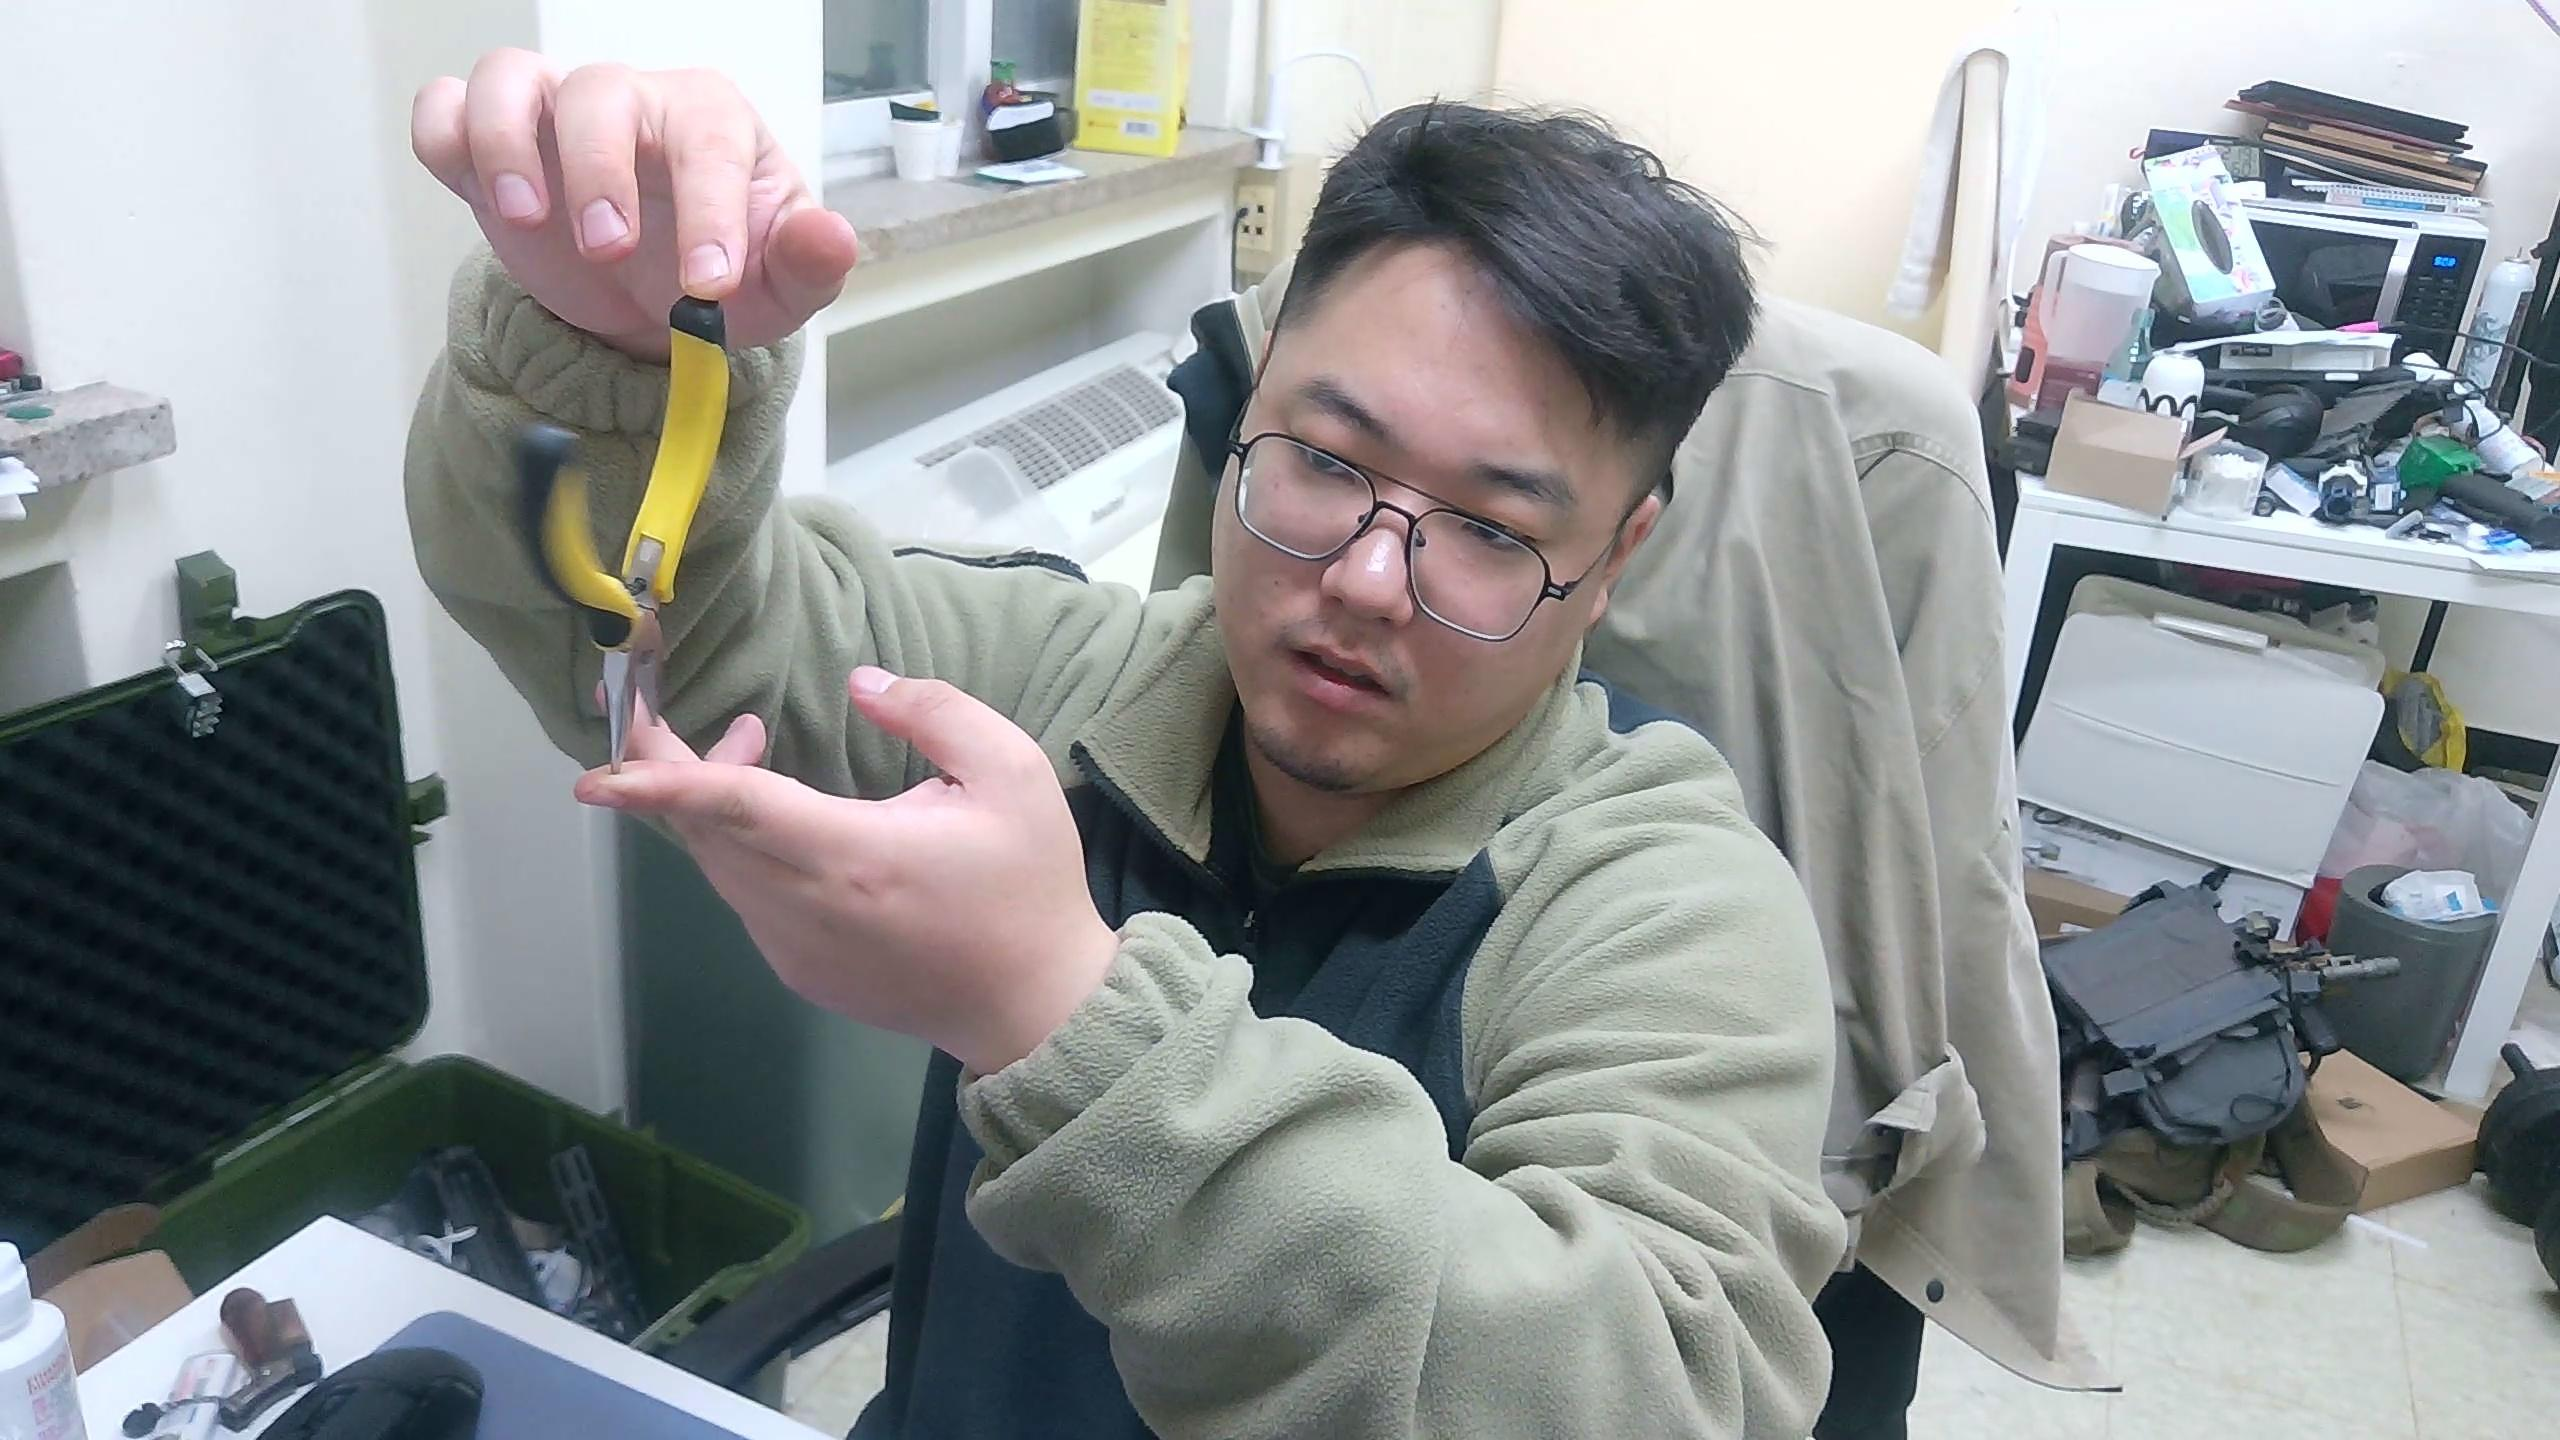earphone: (515, 290, 737, 772)
